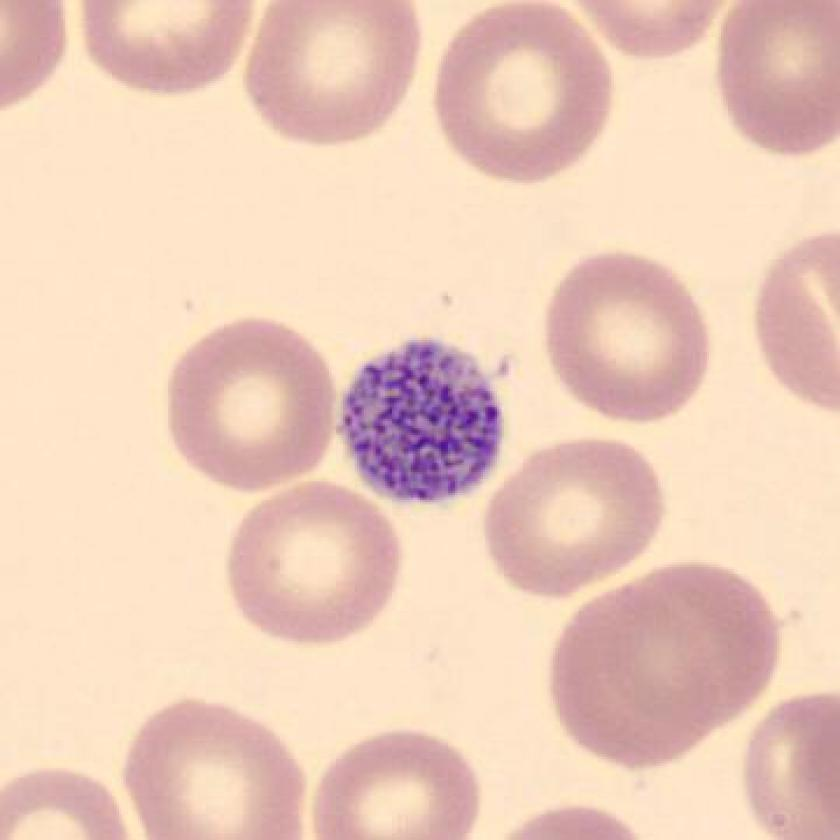platelets: (335, 332, 503, 501)
